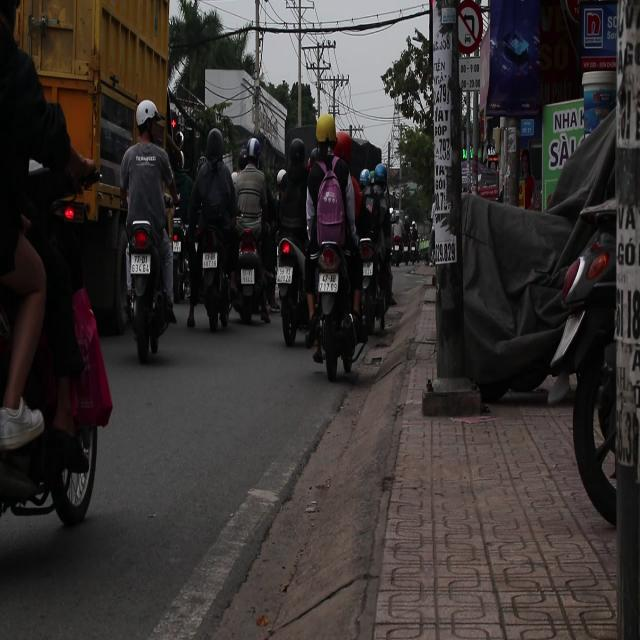motorbike: (300, 141, 365, 381), (353, 163, 398, 359), (123, 205, 175, 370), (194, 212, 236, 353), (232, 215, 270, 341), (279, 238, 313, 370)
